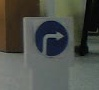right: (31, 18, 72, 58)
